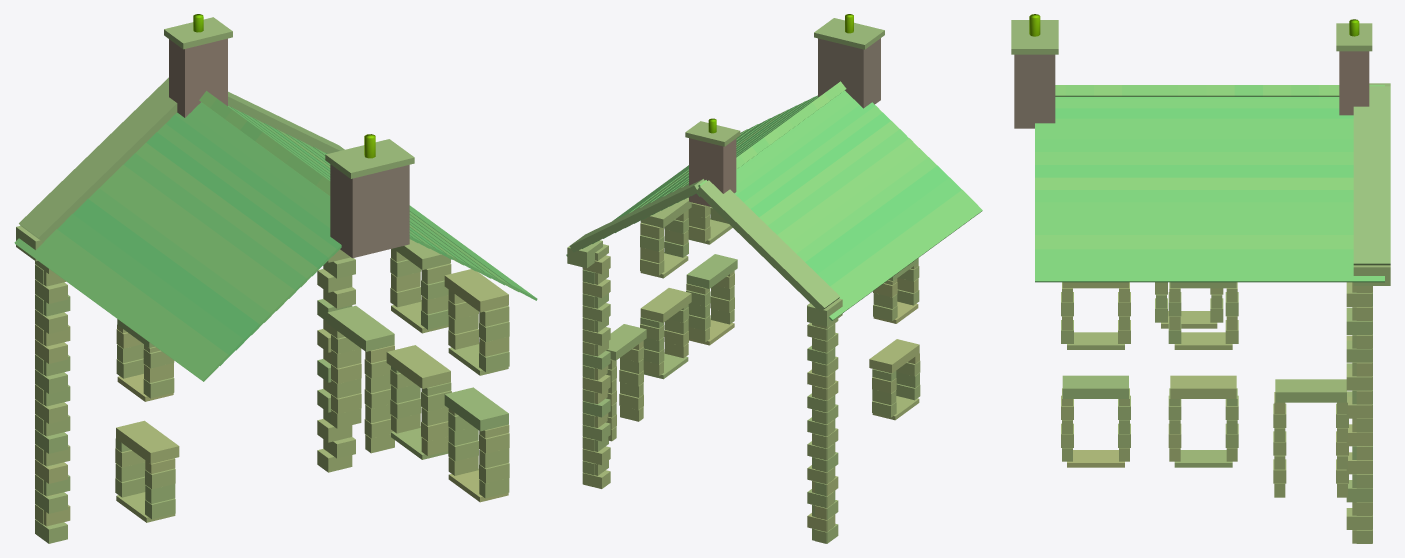
Rendered from SM_Bld_168_Stone.glb.
The picture shows the model from 3 angles, left to right: view 1: azimuth 30°, elevation 25°; view 2: azimuth 150°, elevation 25°; view 3: azimuth 270°, elevation 25°; orthographic projection. The views are drawn at different scales.
Parts seen in each view (by area): view 1: SM_Bld_168_Stone; view 2: SM_Bld_168_Stone; view 3: SM_Bld_168_Stone.
Boxes of the visible parts, left/top/right/bottom form: SM_Bld_168_Stone: left=14, top=14, right=537, bottom=543; SM_Bld_168_Stone: left=566, top=14, right=982, bottom=543; SM_Bld_168_Stone: left=1011, top=14, right=1390, bottom=543.
Bounding box in the file's own units: 7.02 × 9.86 × 7.4.
